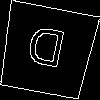D: (22, 25, 68, 78)
